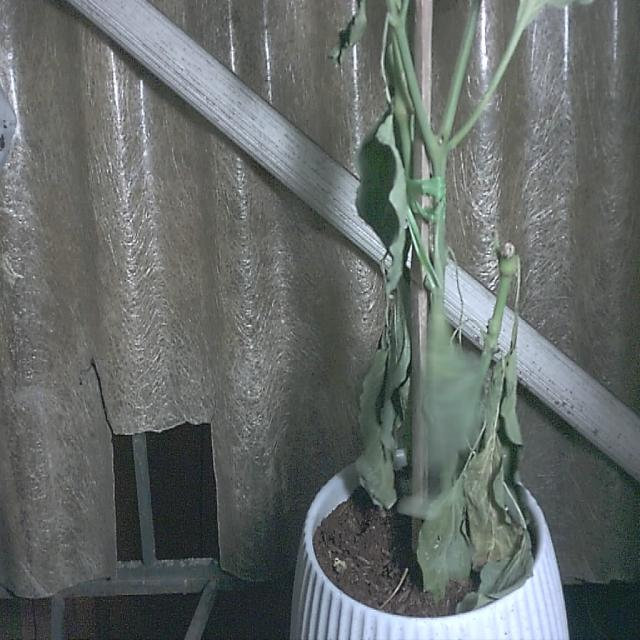Leaf: (357, 284, 410, 508), (464, 361, 521, 569), (422, 305, 483, 472), (357, 111, 408, 295), (457, 530, 533, 613), (417, 483, 471, 599), (330, 0, 367, 64), (517, 0, 593, 29)
